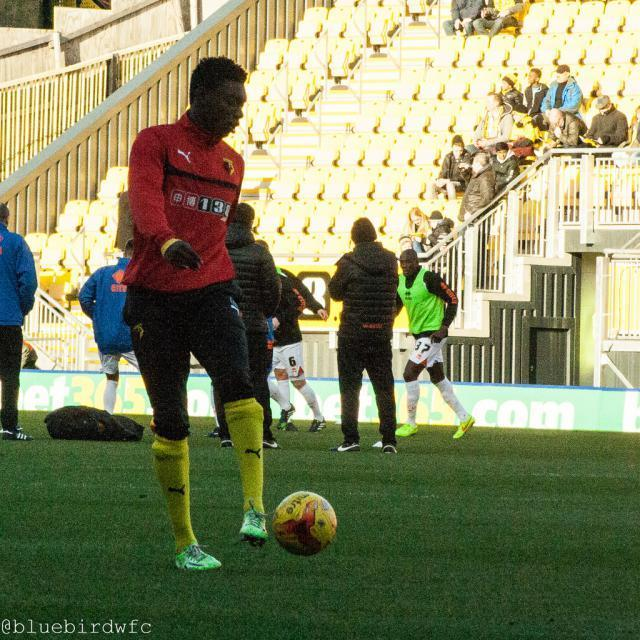football: (251, 479, 351, 559)
